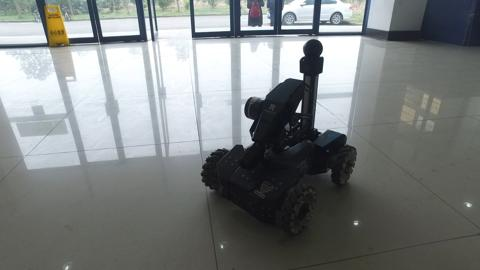car: (263, 1, 355, 26)
chariot: (199, 37, 357, 238)
